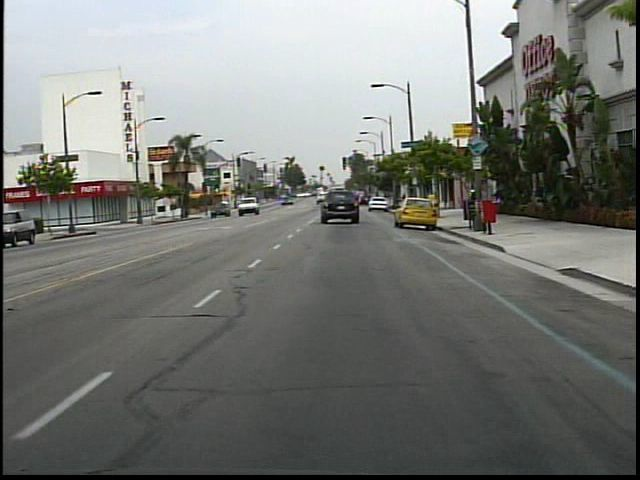person: (464, 185, 485, 221)
